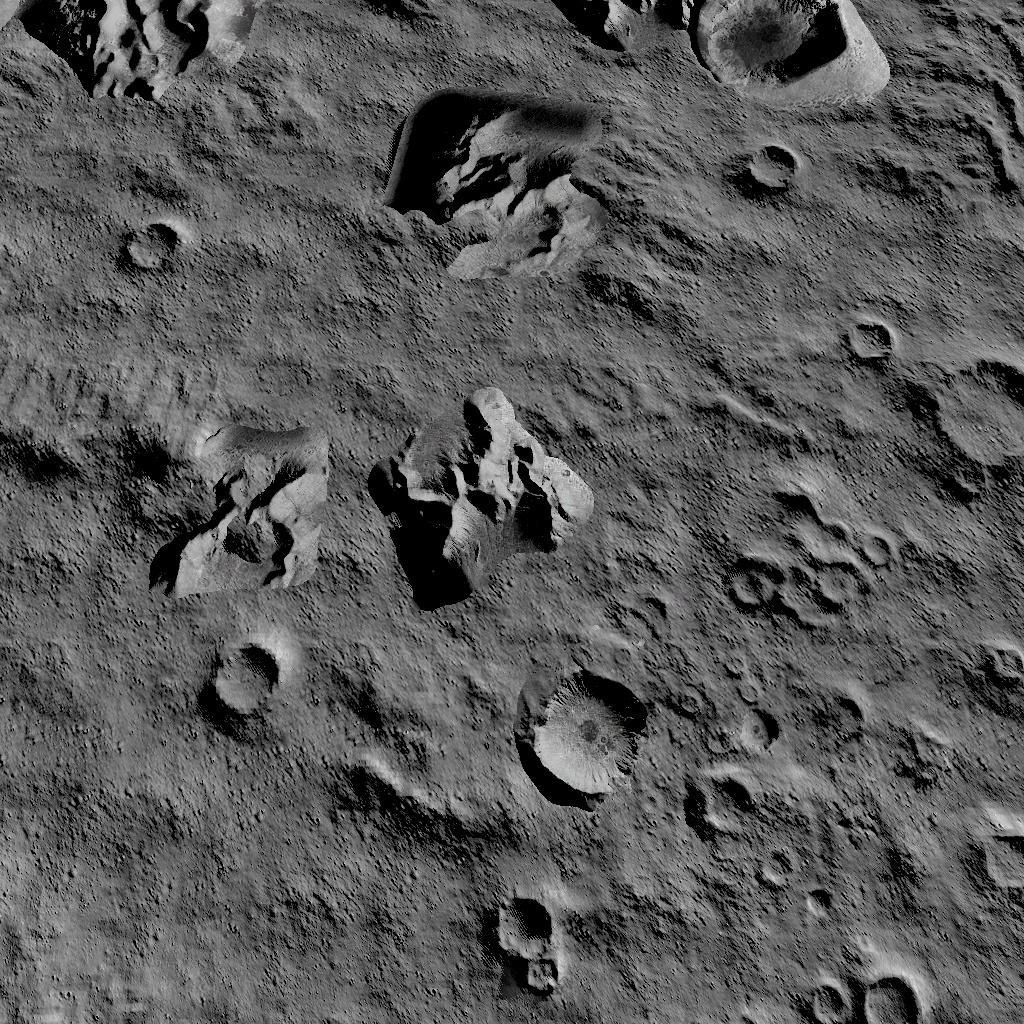Boulders: (0, 345, 328, 595), (378, 92, 700, 322), (374, 380, 590, 610), (0, 0, 258, 98)
Crater: (726, 485, 895, 628), (528, 670, 648, 805), (931, 350, 1024, 505), (486, 888, 570, 1008), (801, 968, 933, 1024), (203, 640, 283, 720), (686, 768, 755, 832), (738, 138, 798, 192), (123, 218, 178, 276), (846, 312, 898, 368)
Plan surface: (0, 608, 191, 1024), (208, 835, 476, 1024), (193, 158, 363, 332), (716, 208, 1024, 300), (711, 2, 903, 108), (584, 948, 790, 1024)
